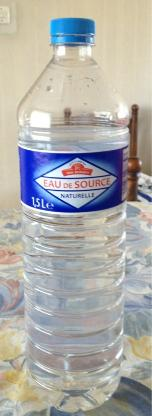Plastic Bottle: (16, 17, 130, 411)
